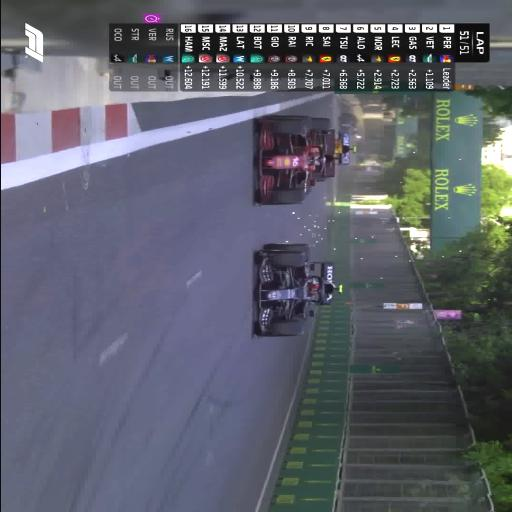f1_car: (254, 243, 340, 337), (256, 114, 338, 205)
